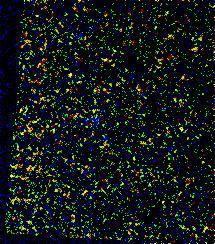star: (155, 21, 185, 51)
